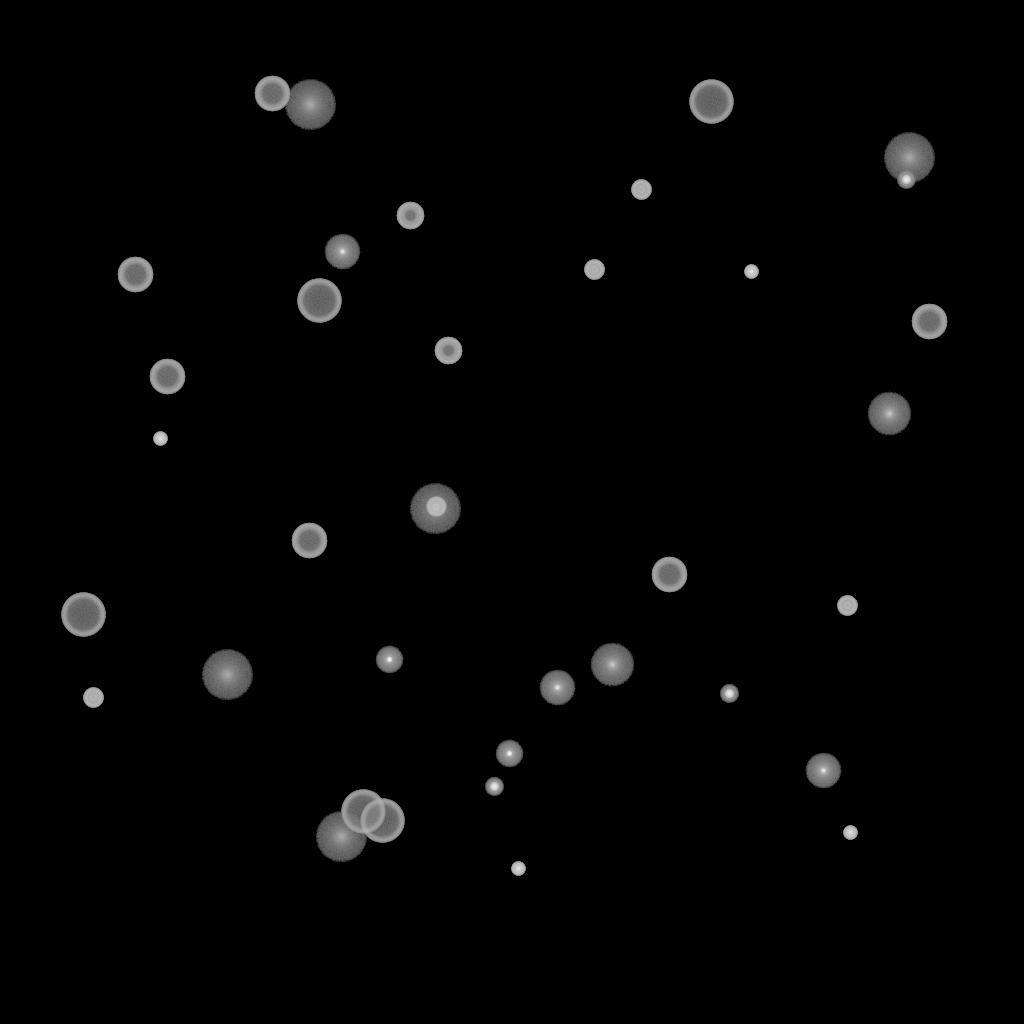depth:-10: (495, 740, 523, 768), (375, 646, 403, 674)
depth:-20: (897, 171, 915, 189), (720, 685, 738, 703), (485, 778, 503, 796)
depth:-30: (511, 862, 525, 876), (843, 826, 857, 840), (744, 265, 758, 279), (153, 432, 167, 446)
depth:-40: (83, 688, 103, 708), (584, 260, 604, 280), (837, 596, 857, 616), (631, 180, 651, 200), (426, 497, 446, 517)
depth:-50: (396, 202, 424, 230), (434, 337, 462, 365)
depth:-60: (254, 76, 290, 112), (149, 359, 185, 395), (651, 557, 687, 593), (291, 523, 327, 559), (911, 304, 947, 340), (117, 257, 153, 293)
depth:-70: (689, 80, 733, 124), (297, 279, 341, 323), (360, 799, 404, 843), (61, 593, 105, 637), (341, 790, 385, 834)
depth:0: (324, 234, 360, 270), (805, 753, 841, 789), (539, 670, 575, 706)
depth:10: (590, 643, 634, 687), (867, 392, 911, 436)
depth:20: (284, 80, 336, 130), (201, 650, 253, 700), (315, 812, 367, 862), (409, 484, 461, 534), (883, 133, 935, 183)
